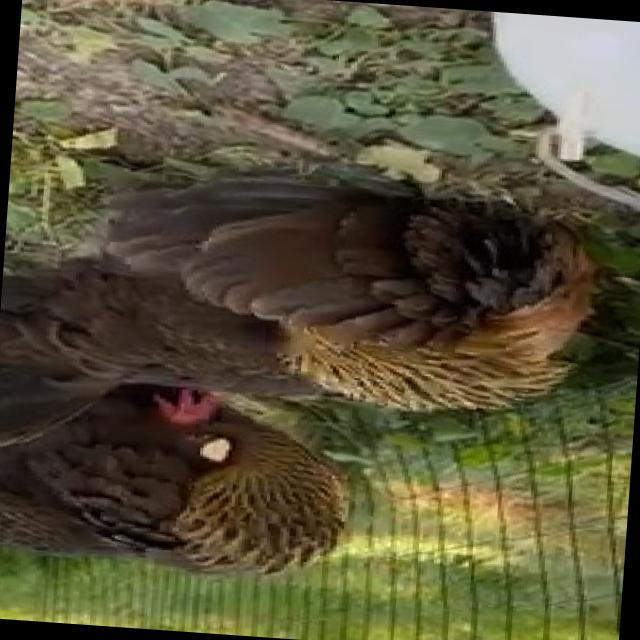self preening: (49, 165, 611, 423), (0, 379, 374, 618)
